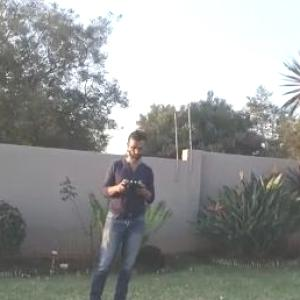follow: (74, 123, 157, 299)
